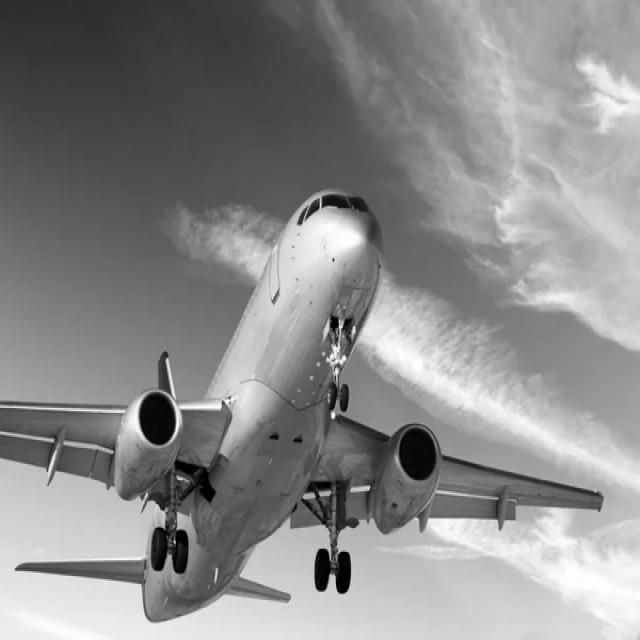Aircraft: (4, 140, 585, 640)
